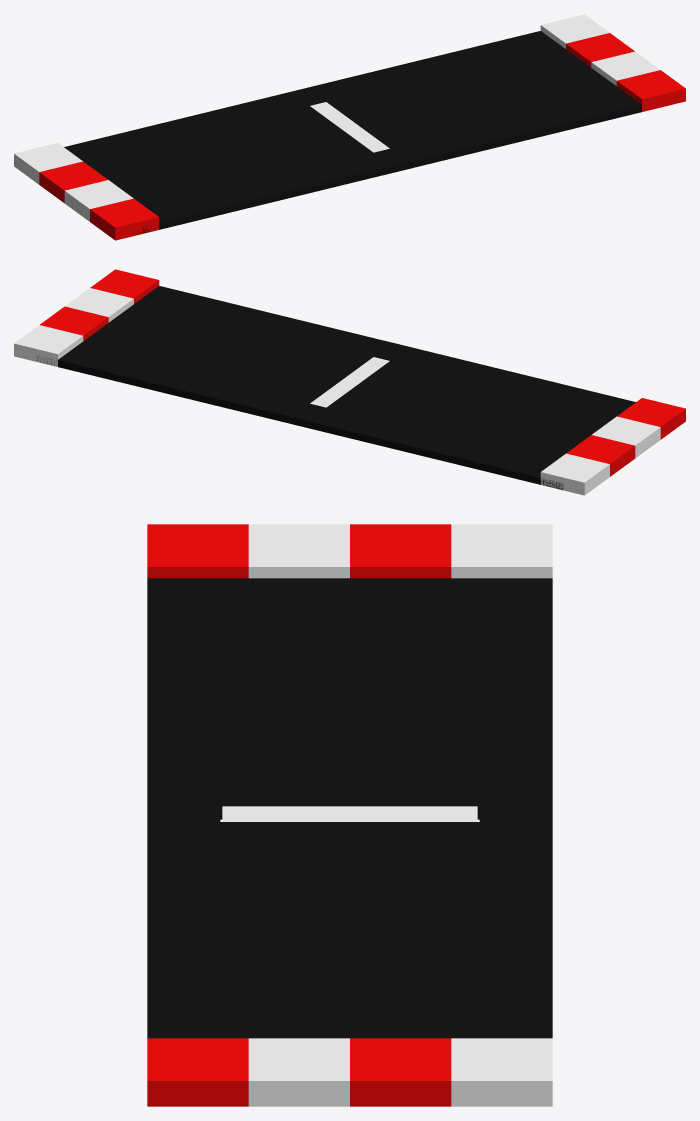
File: road.fbx
The picture shows the model from 3 angles, top to bottom: view 1: azimuth 30°, elevation 25°; view 2: azimuth 150°, elevation 25°; view 3: azimuth 270°, elevation 25°; orthographic projection. The views are drawn at different scales.
Visible parts, largest first — view 1: mergedBlocks; view 2: mergedBlocks; view 3: mergedBlocks.
Part boxes in pixels (x1,y1,x2,y2): mergedBlocks: (14, 14, 685, 240); mergedBlocks: (14, 269, 685, 495); mergedBlocks: (147, 524, 552, 1106).
Bounding box in the file's own units: 32.5 × 0.7 × 10.
1 material, 1 textured.
